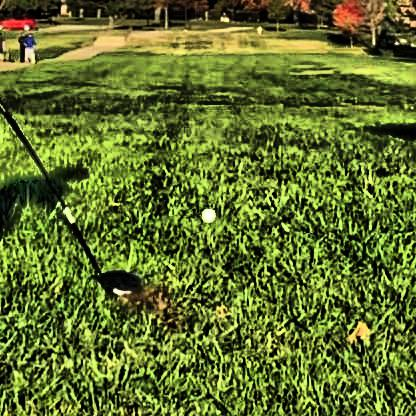golfball: (199, 204, 214, 219)
